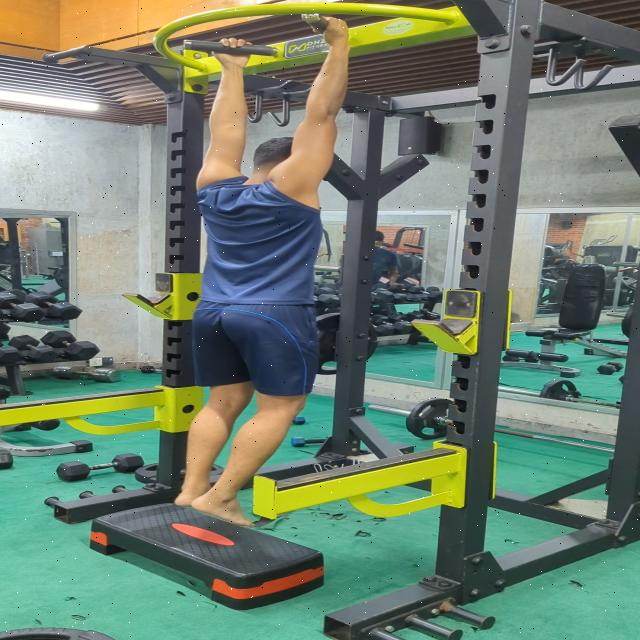Normal_PullUps: (170, 16, 356, 531)
